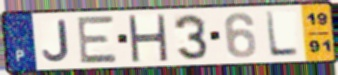3: (172, 13, 210, 62)
6: (222, 11, 258, 60)
E: (76, 14, 120, 66)
H: (125, 14, 169, 63)
J: (40, 18, 72, 64)
L: (264, 10, 301, 58)
